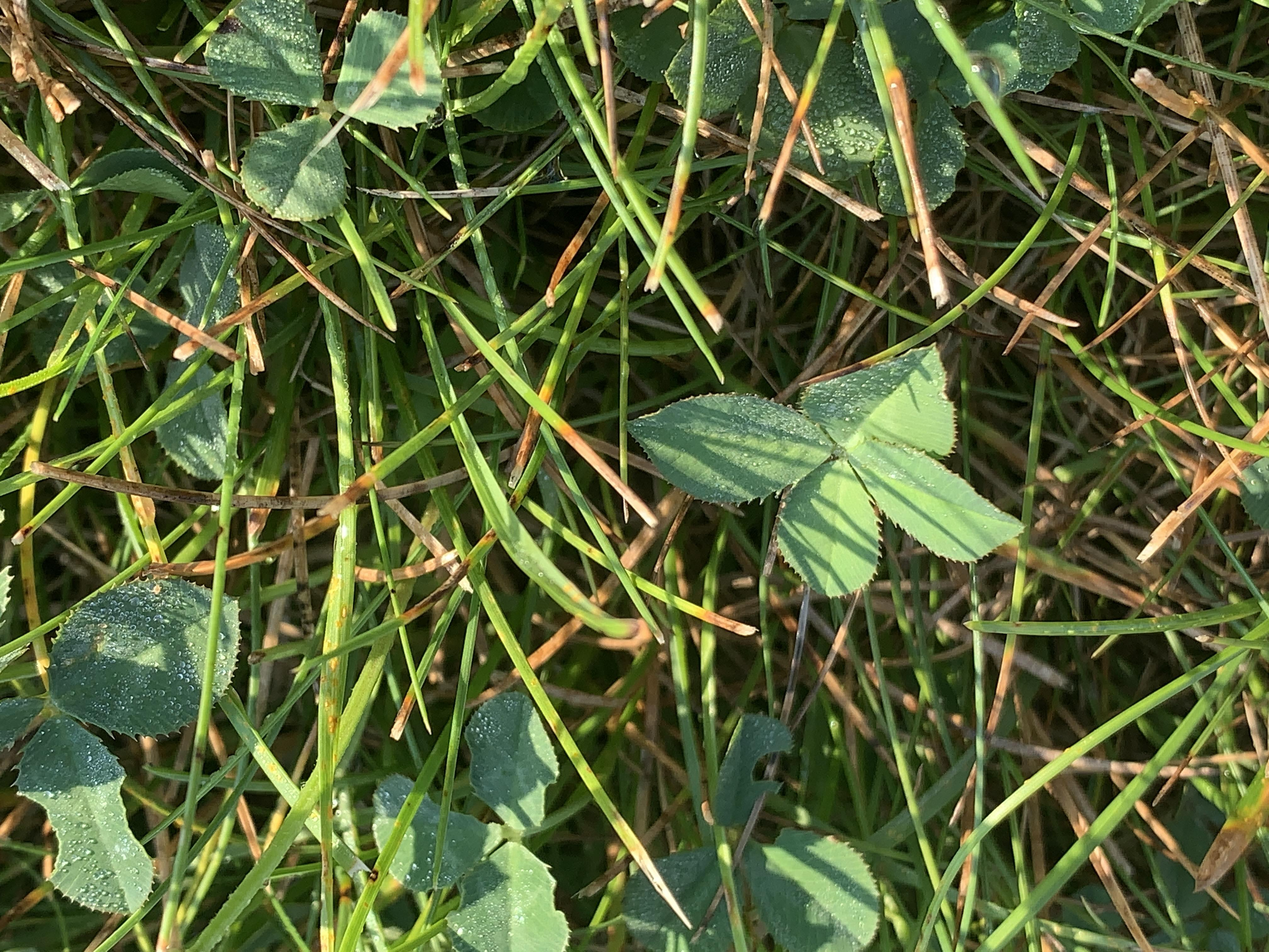4-Leaf-Clovers: (469, 464, 801, 757)
